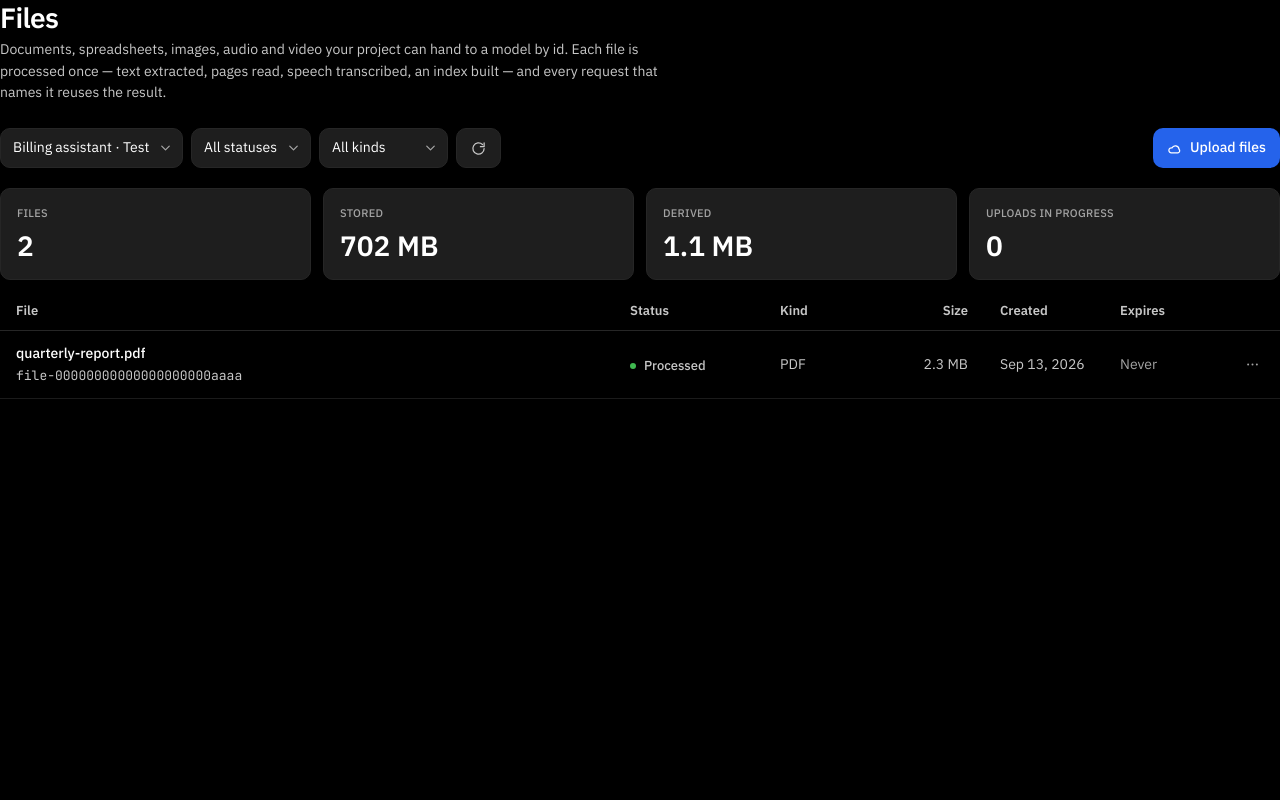
a file's detail view › lists the stages, the measured facts and the derived outputs by name and size, with no way to download bytes
Click the button "quarterly-report.pdf": (81, 354) [16, 343, 145, 365]
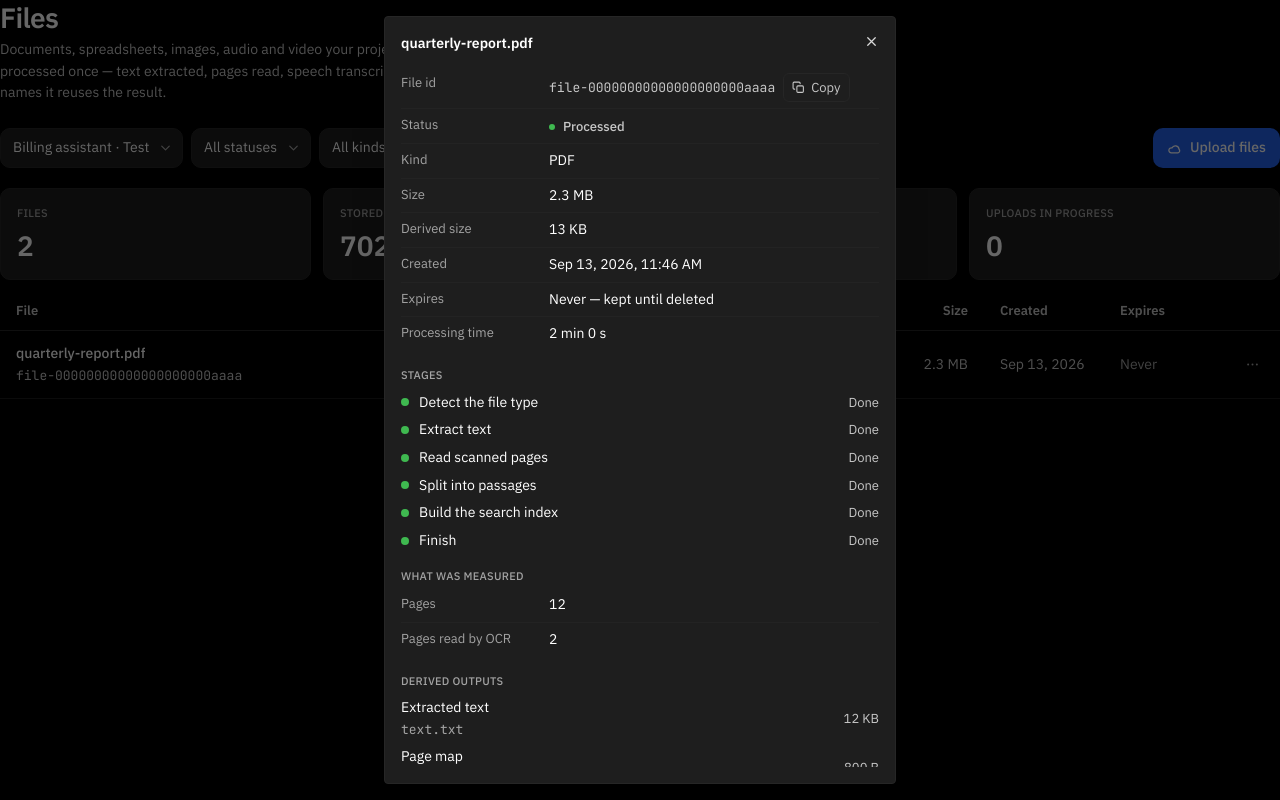
Expected: the text "Read scanned pages" is shown, [419, 448, 548, 466]
Expected: the text "Pages read by OCR" is shown, [401, 630, 511, 647]
Expected: the text "2 min 0 s" is shown, [549, 324, 606, 342]
